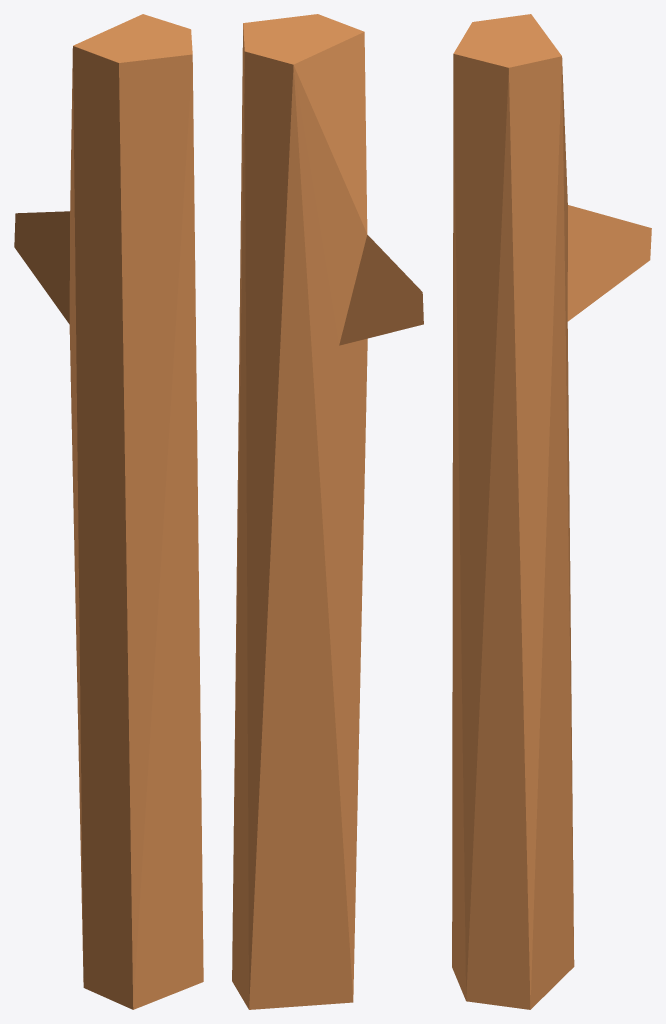
File: stick.glb
3 renders of one model, left to right at view 1: azimuth 30°, elevation 25°; view 2: azimuth 210°, elevation 25°; view 3: azimuth 270°, elevation 25°, orthographic.
Parts seen in each view (by area): view 1: Cylinder; view 2: Cylinder; view 3: Cylinder.
Boxes of the visible parts, x1=… form: Cylinder: x1=14, y1=14, x2=203, y2=1009; Cylinder: x1=232, y1=14, x2=423, y2=1009; Cylinder: x1=452, y1=14, x2=651, y2=1009.
Bounding box in the file's own units: 0.1273 × 1.01 × 0.1932.
